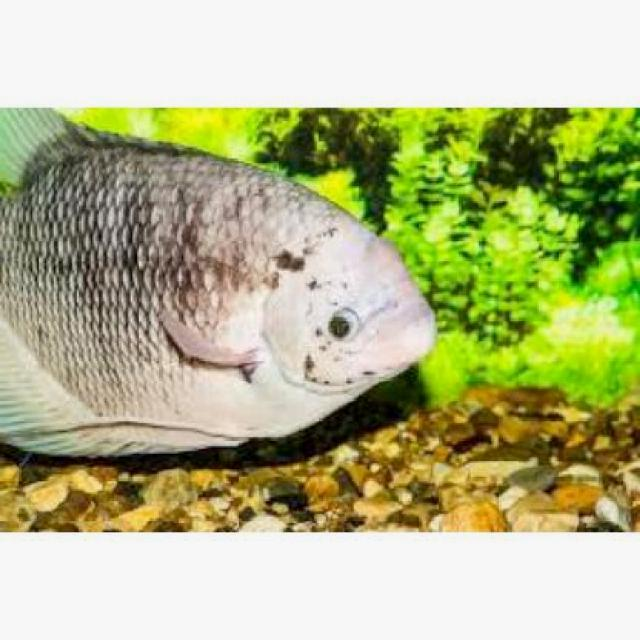gurame: (1, 120, 438, 458)
